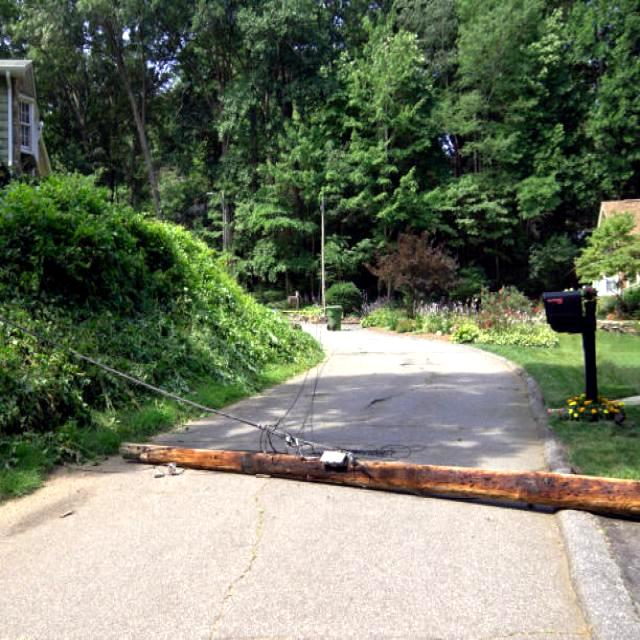Broken Pole: (95, 432, 640, 508)
